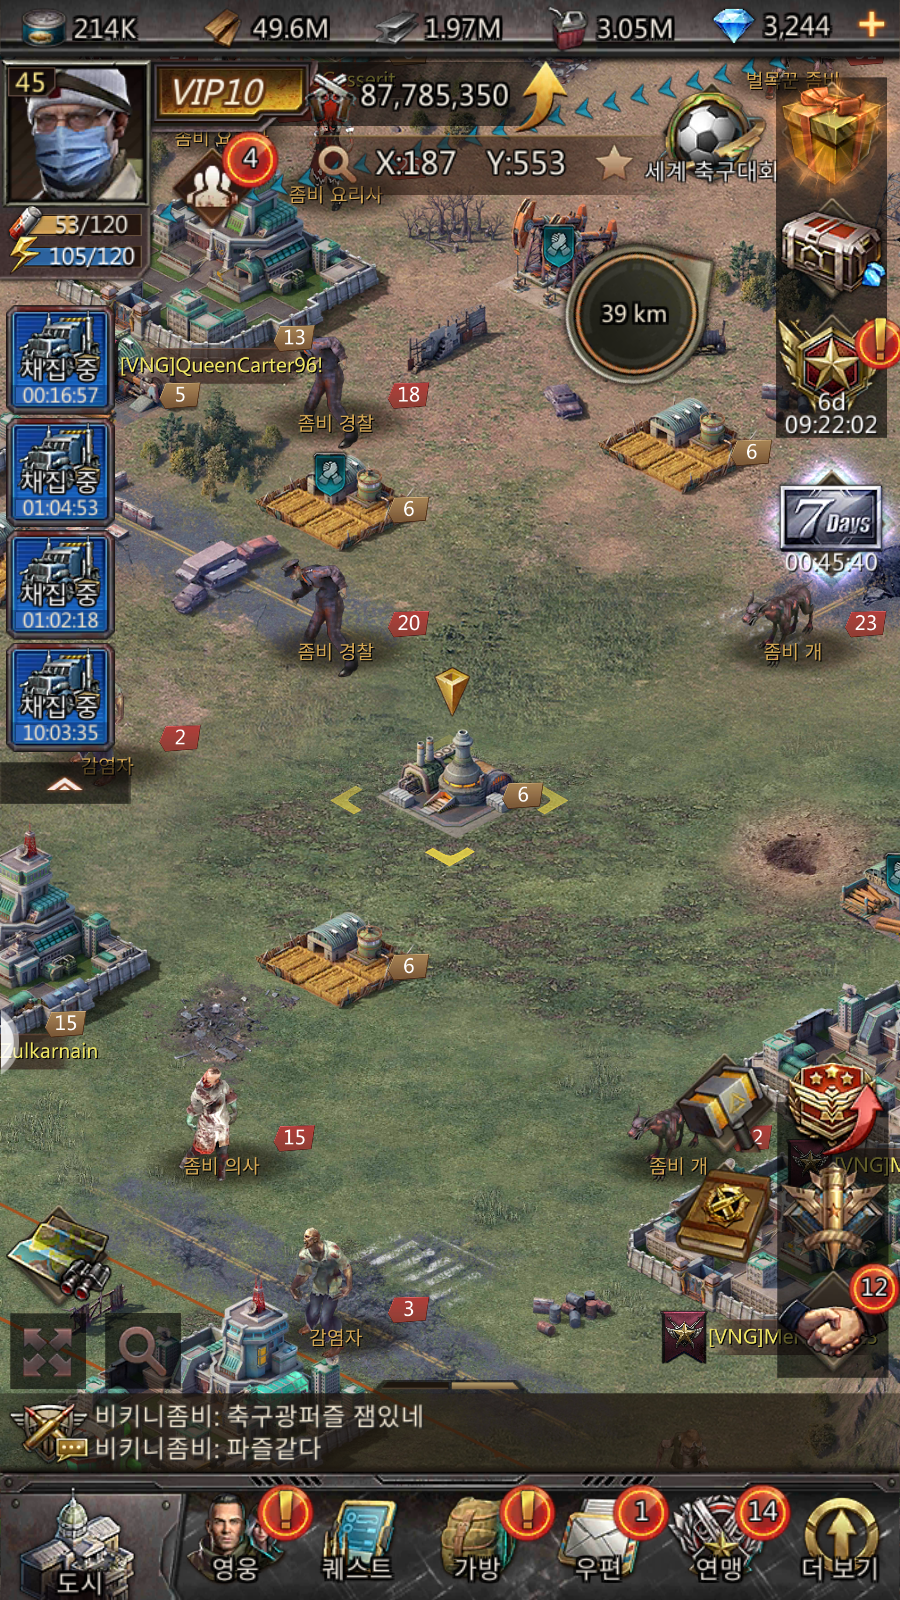city: (5, 1489, 176, 1600)
empty_steel: (315, 656, 587, 884)
open_panel: (91, 1295, 195, 1405)
troops_cnt_4: (165, 120, 278, 249)
